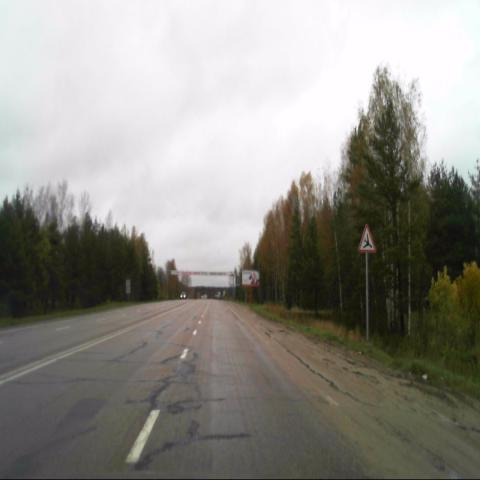1_30: (358, 224, 376, 254)
